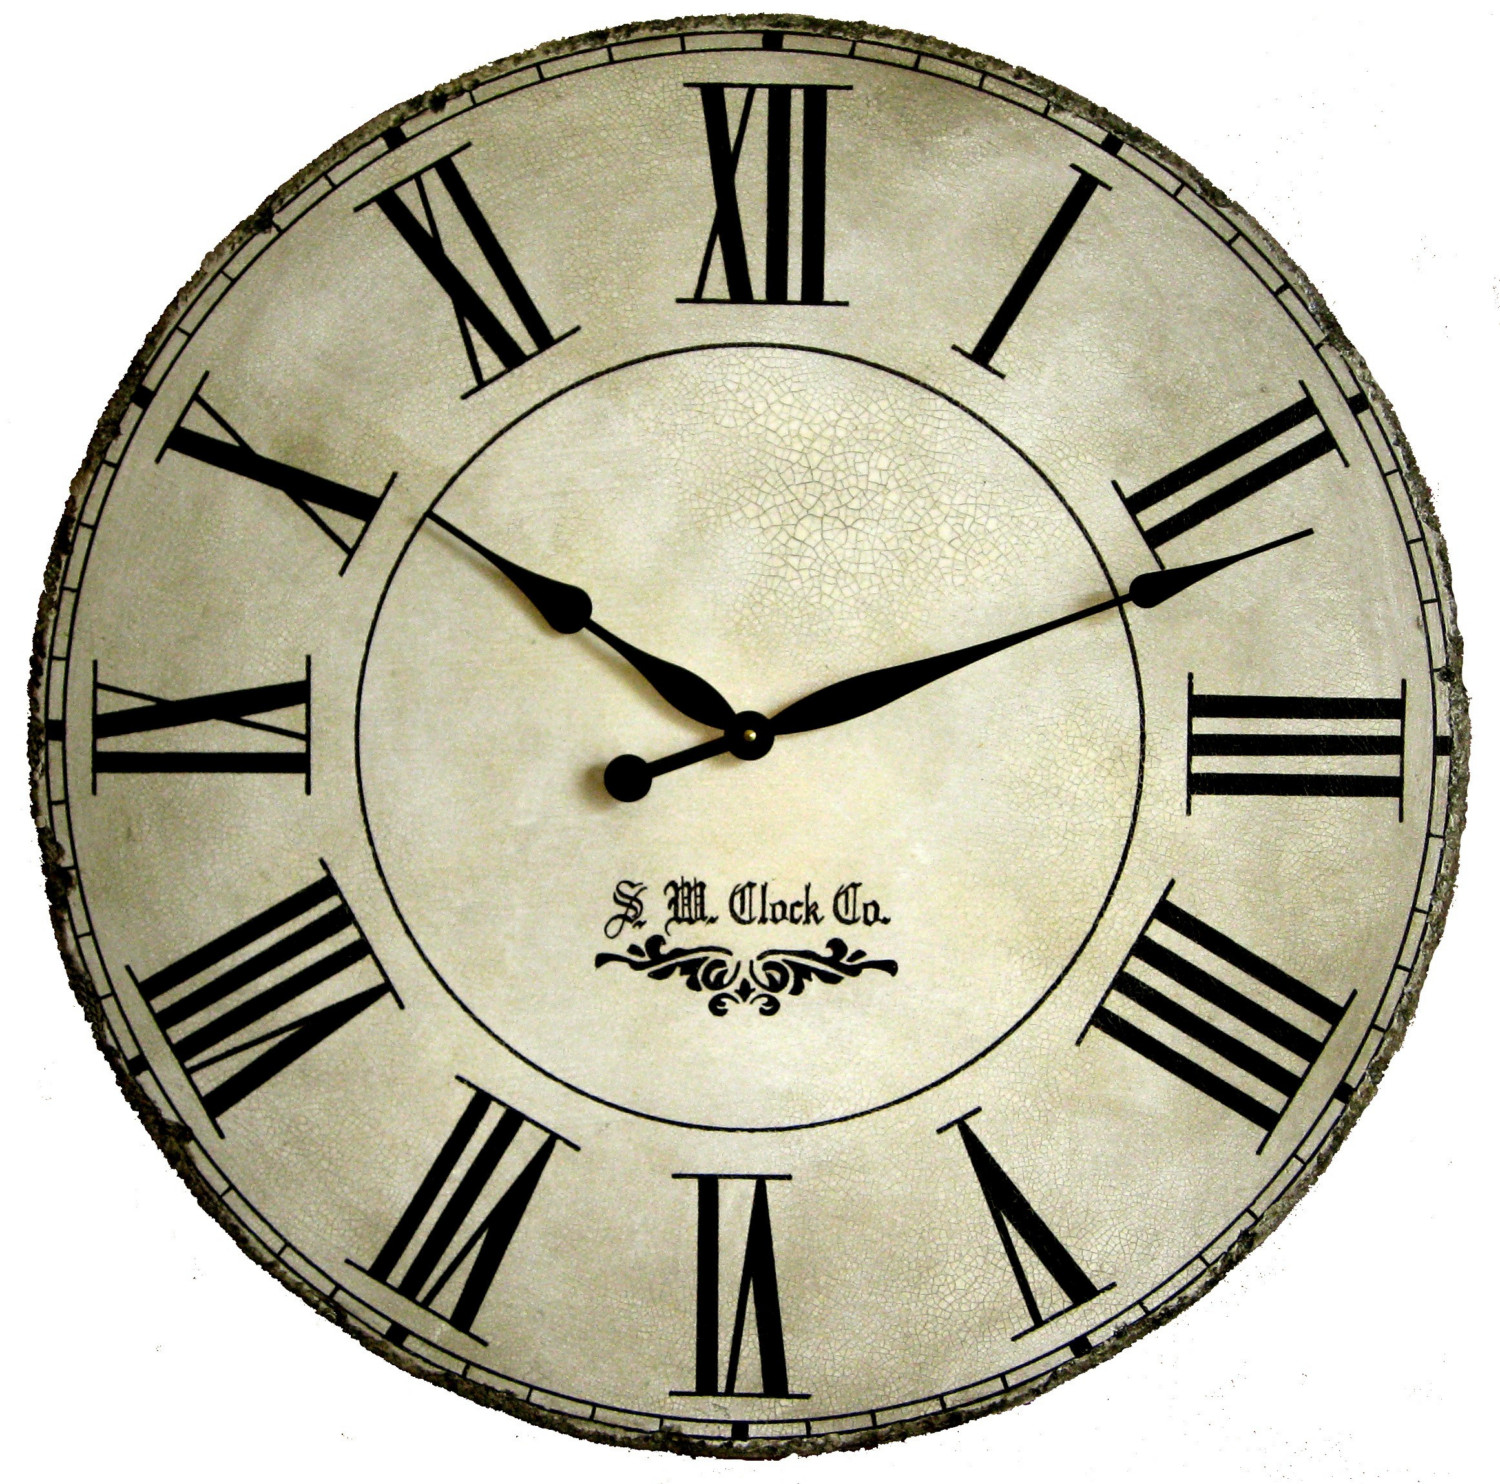clock: (3, 1, 1500, 1474)
